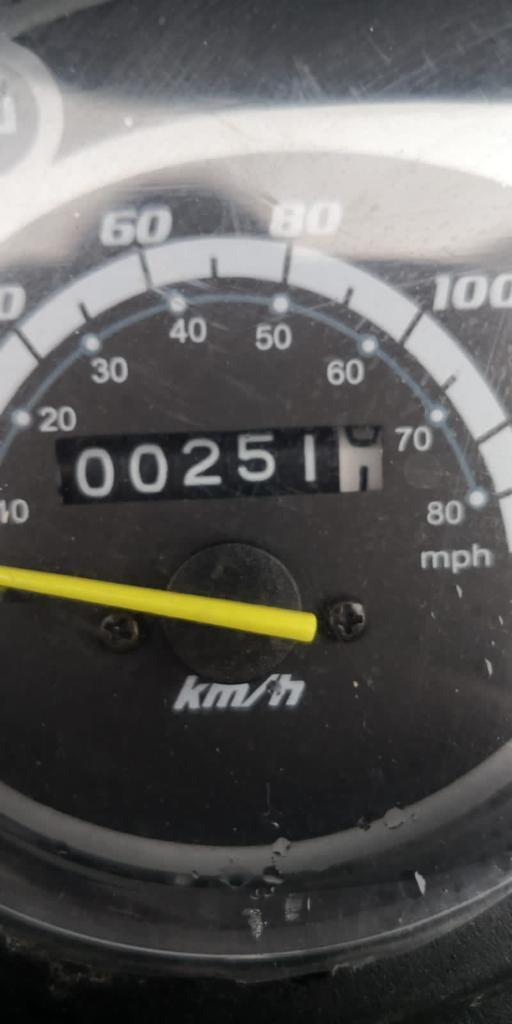0: (74, 439, 116, 501), (126, 441, 171, 495), (59, 405, 79, 433)
1: (295, 424, 328, 495), (352, 456, 380, 504)
2: (179, 434, 222, 491)
5: (232, 426, 280, 480)
odometer: (54, 406, 397, 510)
